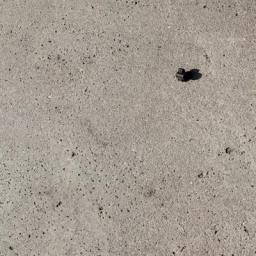FOD: (174, 63, 206, 85)
